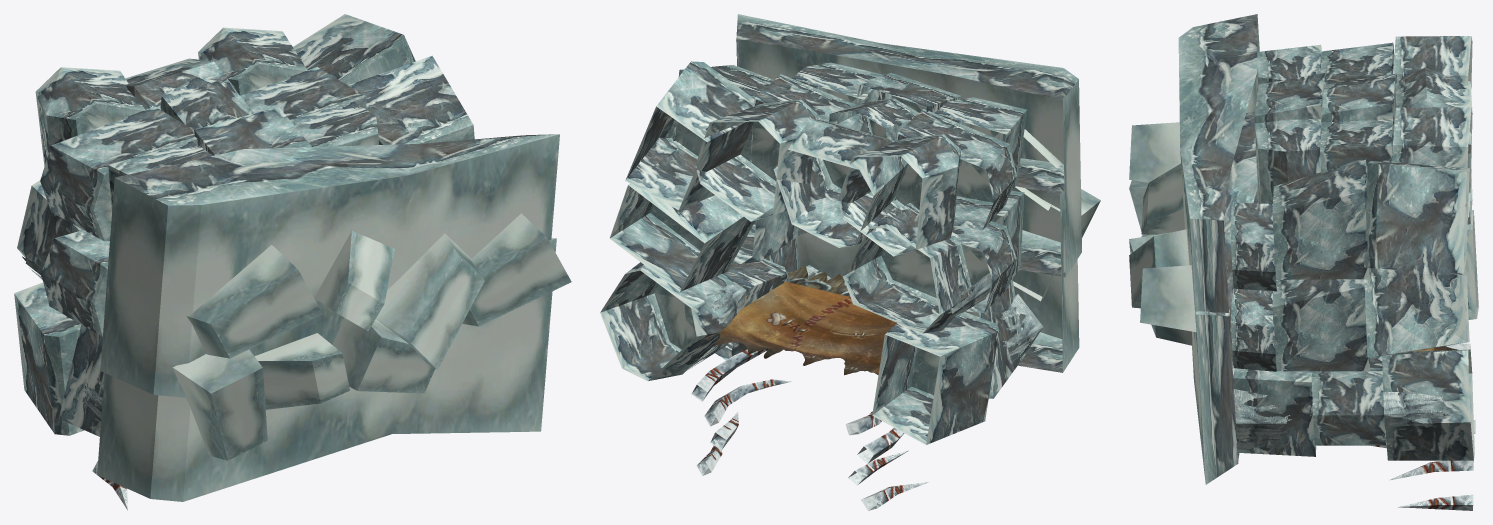
File: zhanchang_fuben_195_fangzi_02.obj
3 views of the same model, side by side, from view 1: azimuth 30°, elevation 25°; view 2: azimuth 150°, elevation 25°; view 3: azimuth 270°, elevation 25° (orthographic). The views are drawn at different scales.
Parts seen in each view (by area): view 1: Box02; view 2: Box02; view 3: Box02.
Boxes of the visible parts, box(x1,y1,x2,y2) form: Box02: box(14, 14, 571, 510); Box02: box(600, 14, 1100, 510); Box02: box(1129, 14, 1478, 510).
Size of the model in its own units: 351 by 336 by 283.
4 materials, 4 textured.
